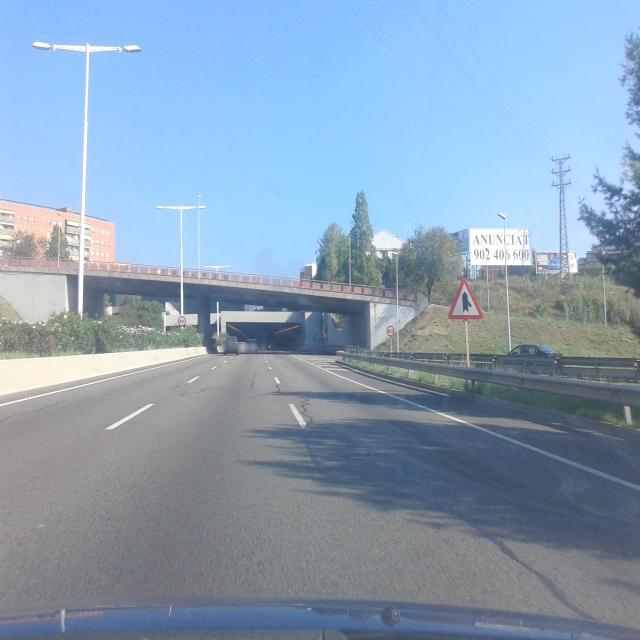car: (506, 343, 564, 359), (224, 336, 239, 356), (246, 338, 258, 354)
